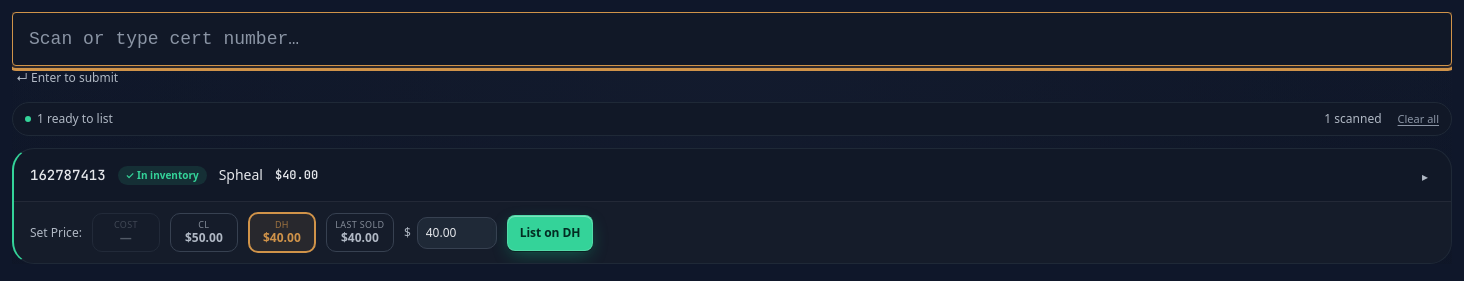
it: confirmed Cert Intake returns › does not claim the reviewed price is live when DH reports already listed
What coordinates should you click on to do the following:
click the button "List on DH"
I would click on:
 (550, 233)
Its box is [507, 215, 593, 251].
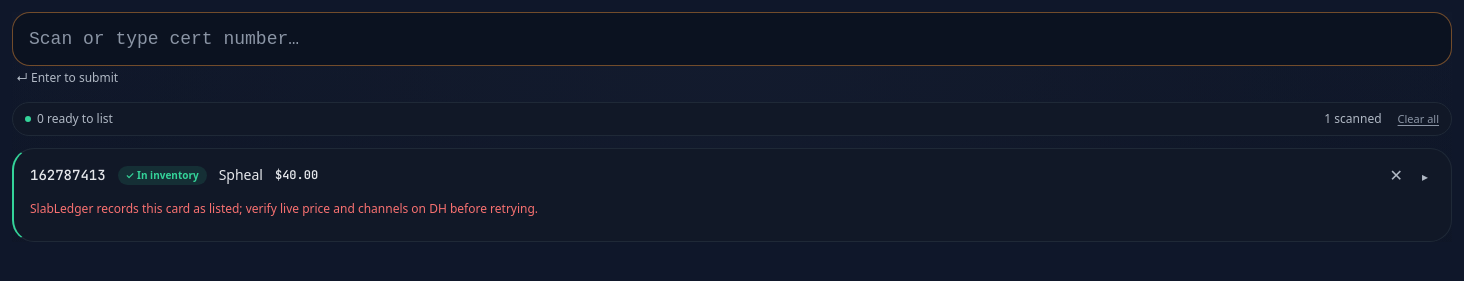
expect the text "SlabLedger records this card as listed; verify live price and channels on DH" is shown: met, box [30, 200, 538, 217]
expect the button "List on DH" is gone: met
